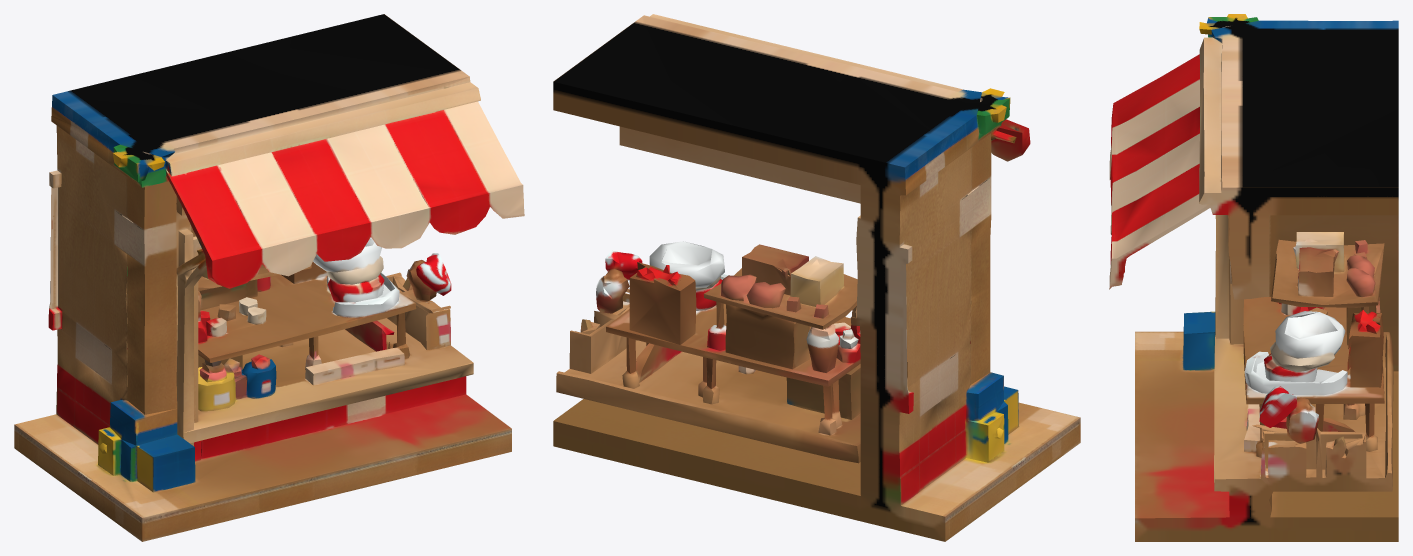
Rendered from 1-ground-floor-front-left.fbx.
The picture shows the model from 3 angles, left to right: view 1: azimuth 30°, elevation 25°; view 2: azimuth 150°, elevation 25°; view 3: azimuth 270°, elevation 25°; orthographic projection. The views are drawn at different scales.
Visible parts, largest first — view 1: ground-floor-front-left; view 2: ground-floor-front-left; view 3: ground-floor-front-left.
Boxes of the visible parts, bbox=[...] form: ground-floor-front-left: bbox=[14, 14, 524, 541]; ground-floor-front-left: bbox=[553, 14, 1080, 541]; ground-floor-front-left: bbox=[1109, 14, 1398, 541].
Bounding box in the file's own units: 4739 × 4213 × 3115.
1 material, 1 textured.
